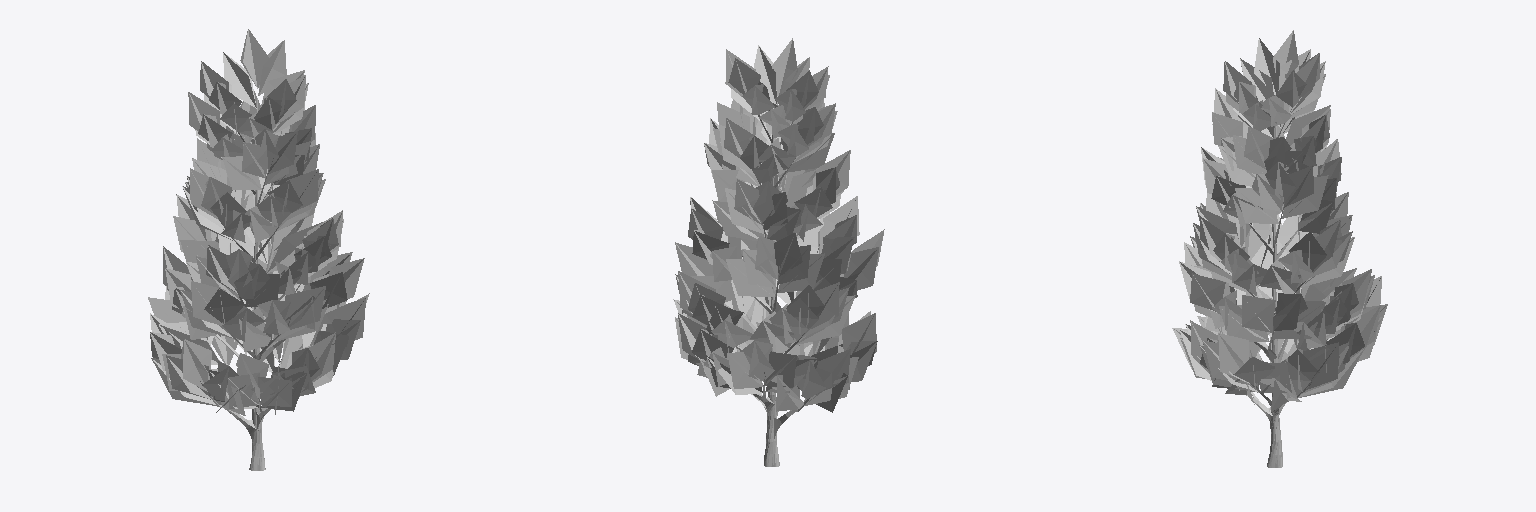
File: tree0.obj
The picture shows the model from 3 angles: view 1: azimuth 30°, elevation 25°; view 2: azimuth 150°, elevation 25°; view 3: azimuth 270°, elevation 25°; orthographic projection.
Parts seen in each view (by area): view 1: tree; view 2: tree; view 3: tree.
Part boxes in pixels (x1,y1,x2,y2): tree: (148, 29, 369, 470); tree: (673, 38, 884, 466); tree: (1172, 30, 1387, 467).
Bounding box in the file's own units: 394 × 792 × 370.